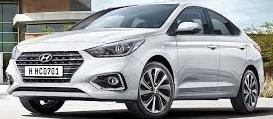Cars: (7, 5, 264, 118)
